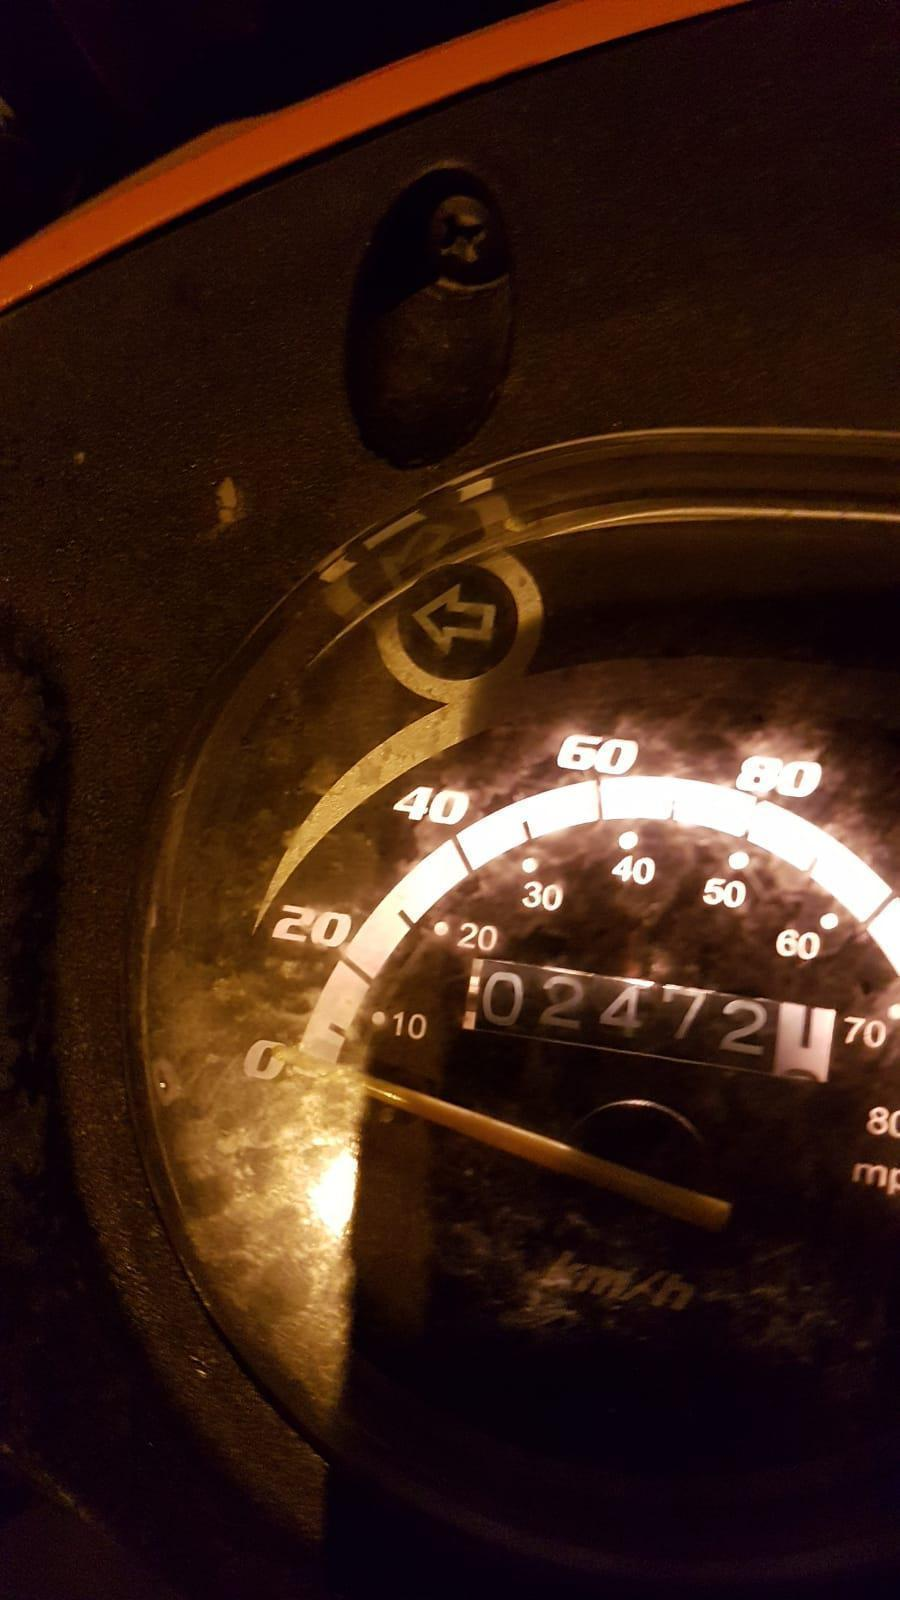0: (484, 966, 522, 1027)
1: (791, 993, 818, 1052)
2: (722, 993, 769, 1062), (538, 968, 582, 1033)
4: (598, 980, 647, 1037)
7: (662, 979, 710, 1055)
odometer: (454, 956, 842, 1091)
